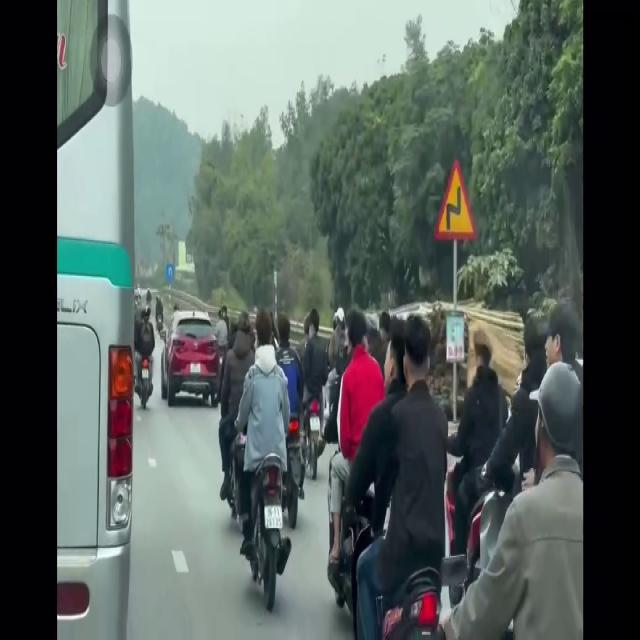no_helmet: (406, 317, 428, 392), (257, 310, 276, 375)
